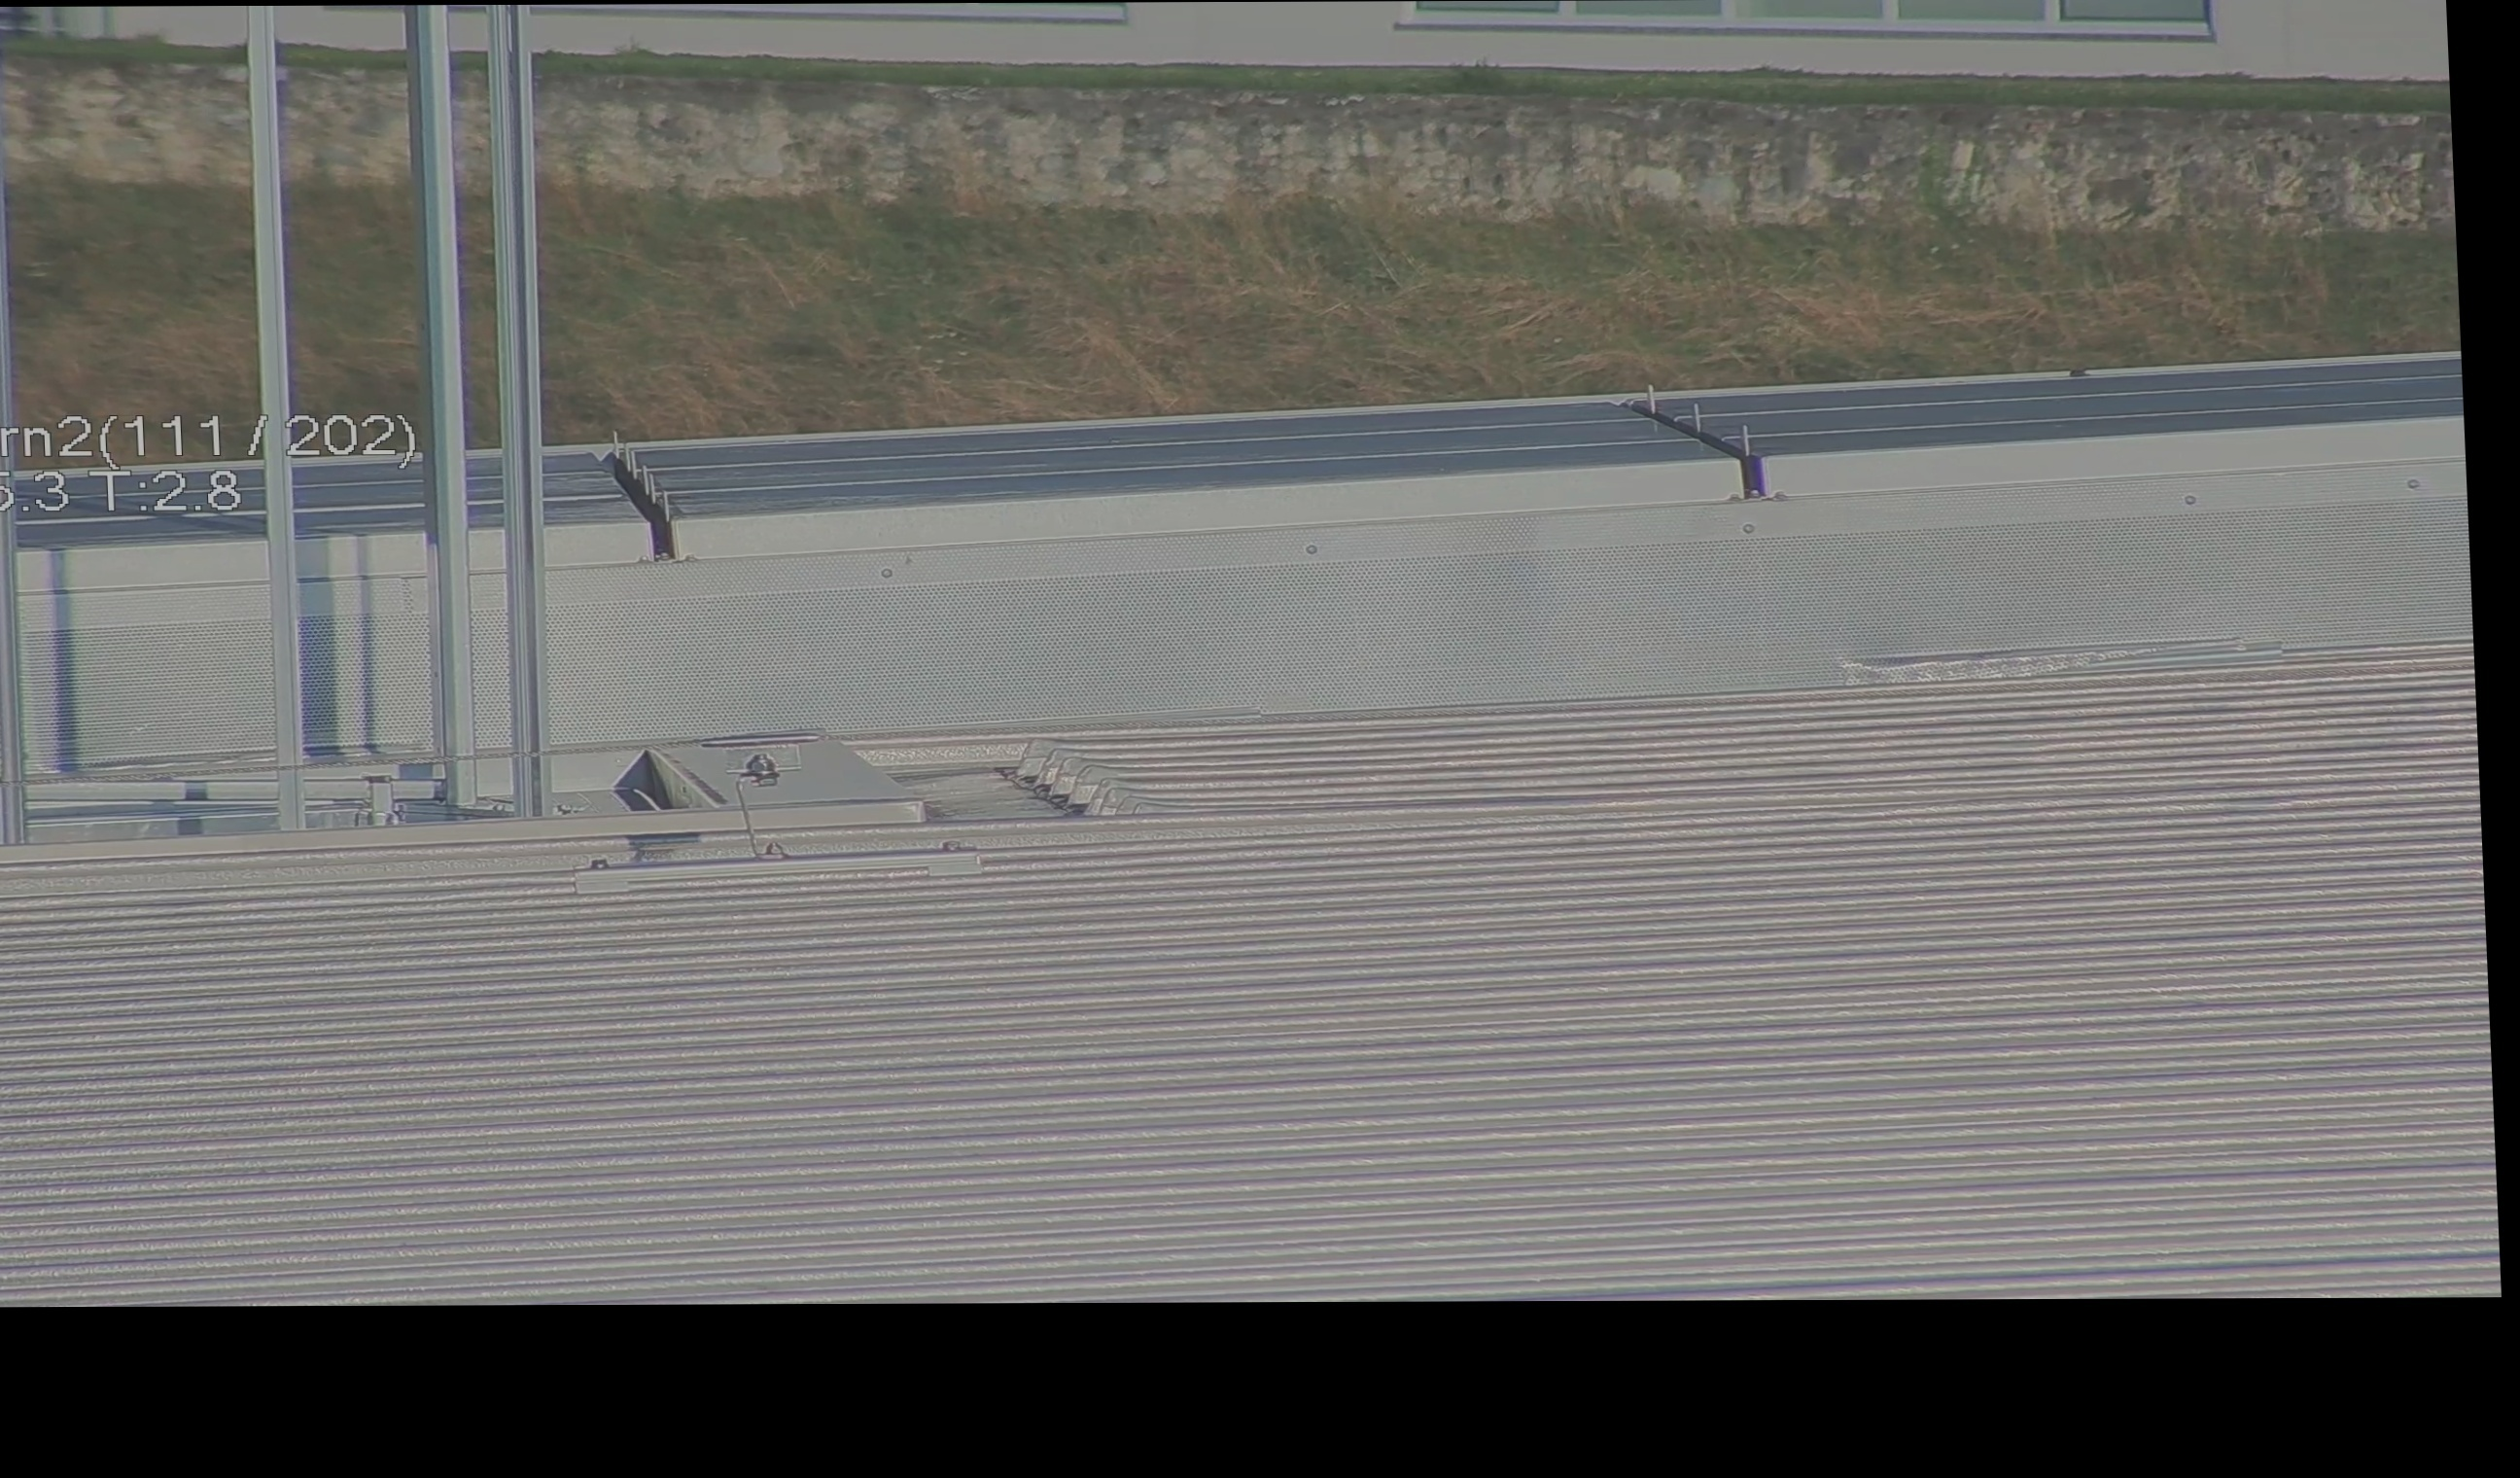Other: (580, 429, 695, 560)
